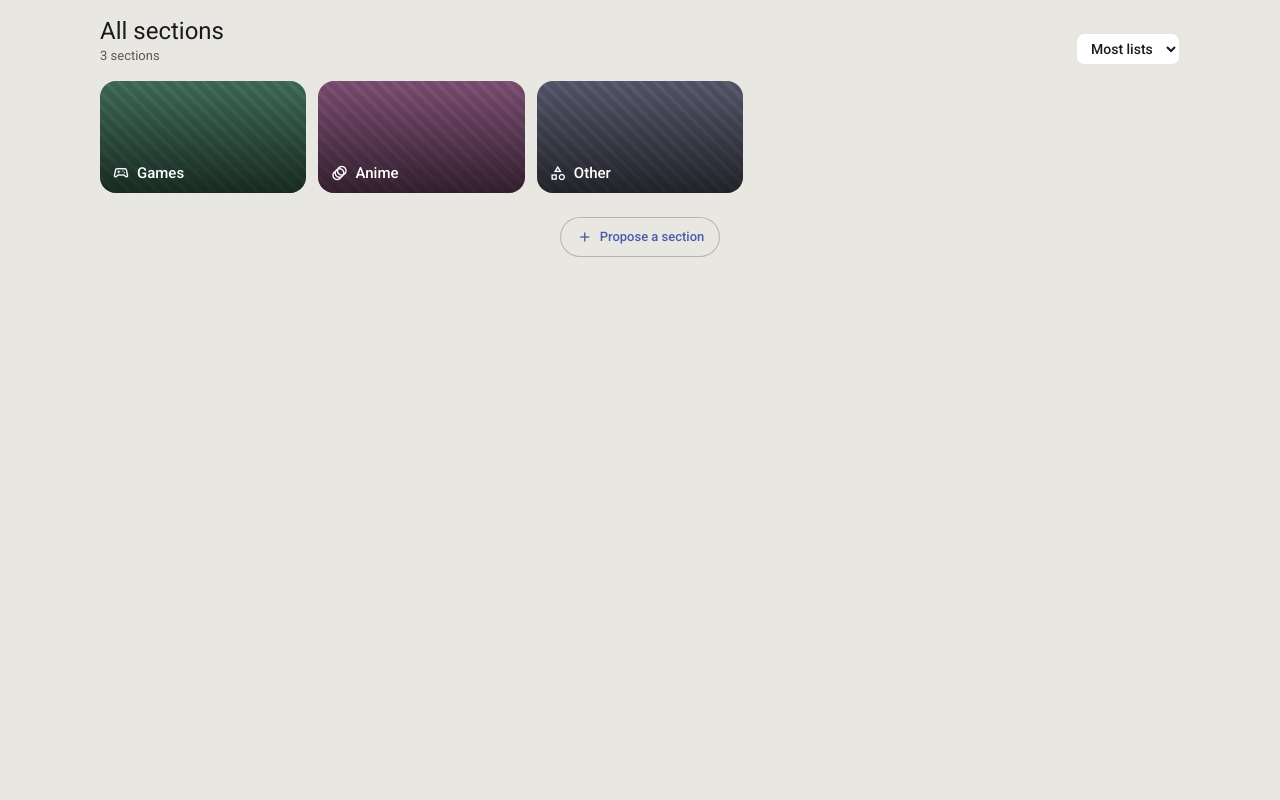
Test case: All sections: proposing › leaves a guest who does not sign in where they were
The width and height of the screenshot is (1280, 800).
Click the button "Propose a section" at [640, 237], box [560,217,720,257]
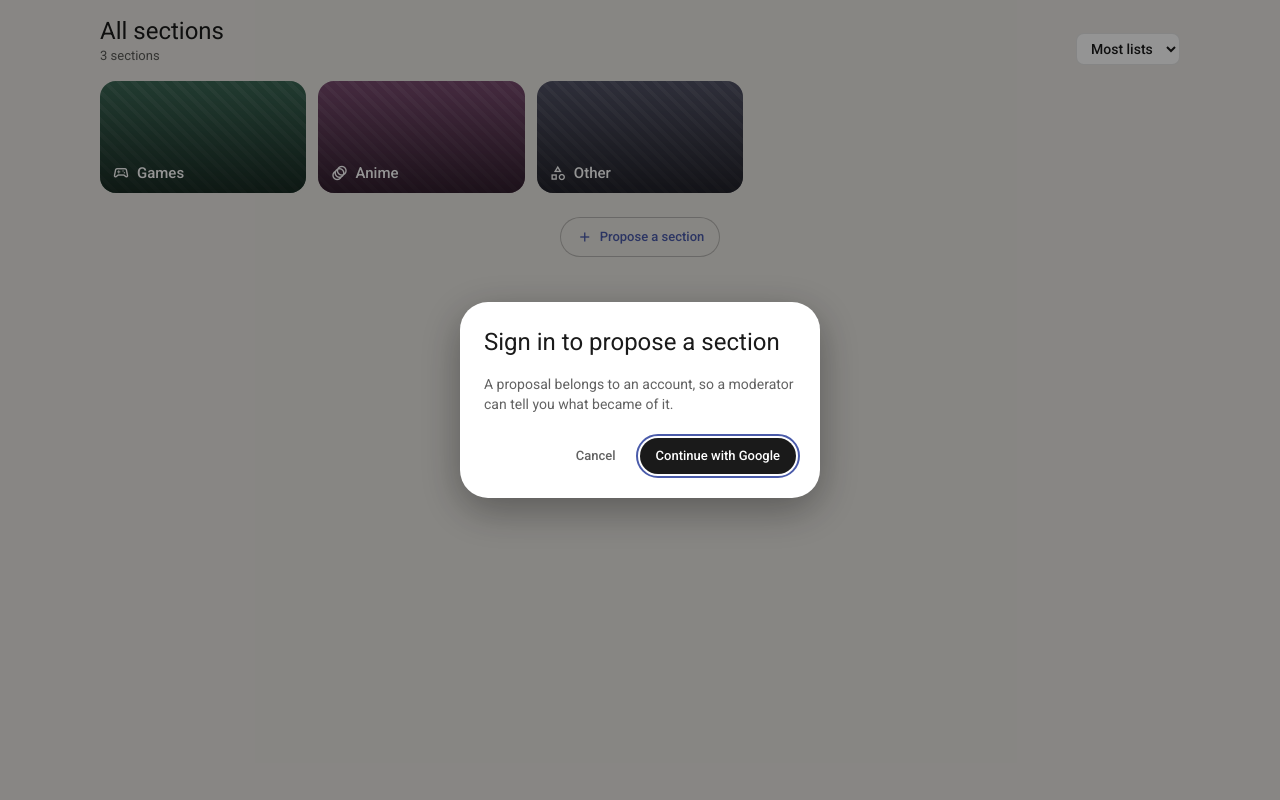
Click the button "Continue with Google" at [718, 456], box [640,438,796,474]
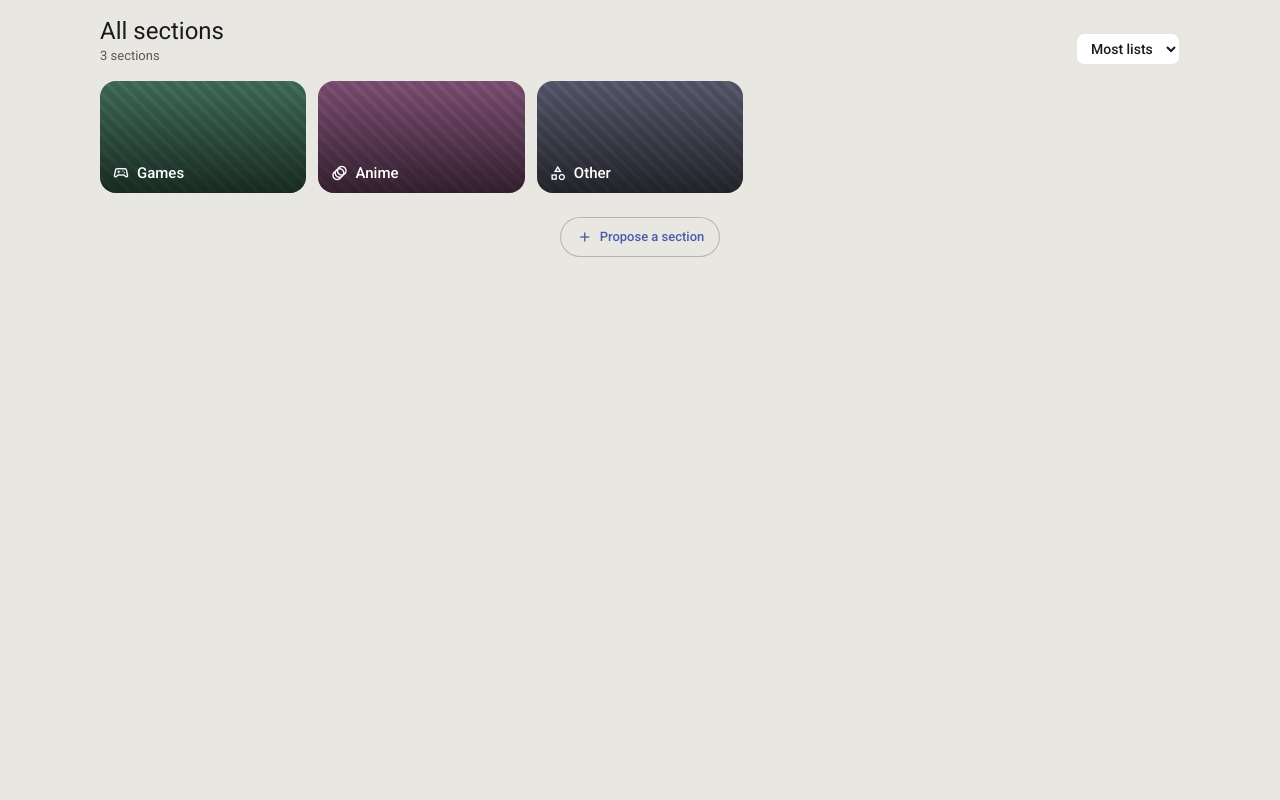
Check: the dialog is gone
